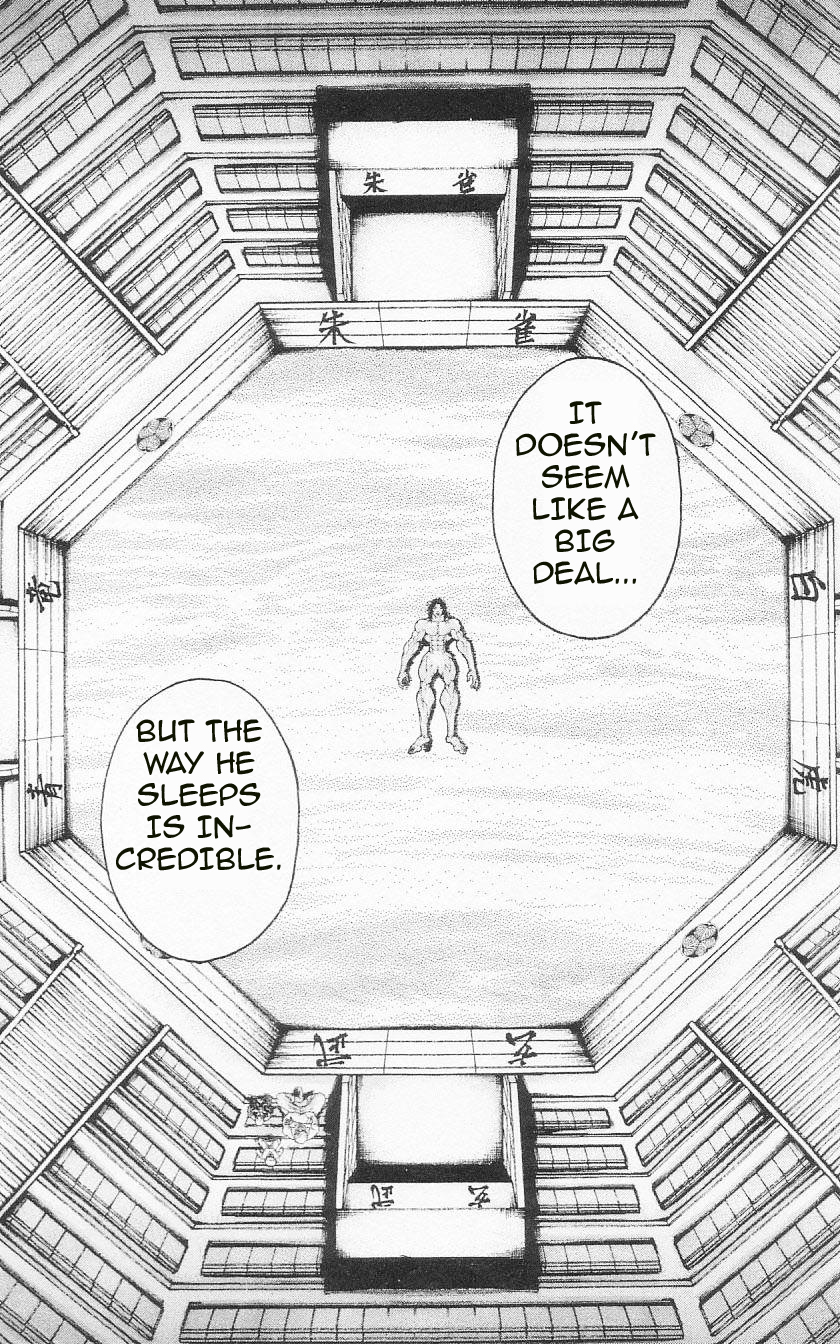Baloon: (100, 678, 302, 959), (492, 359, 678, 645)
Vignetta: (2, 1, 840, 1339)
